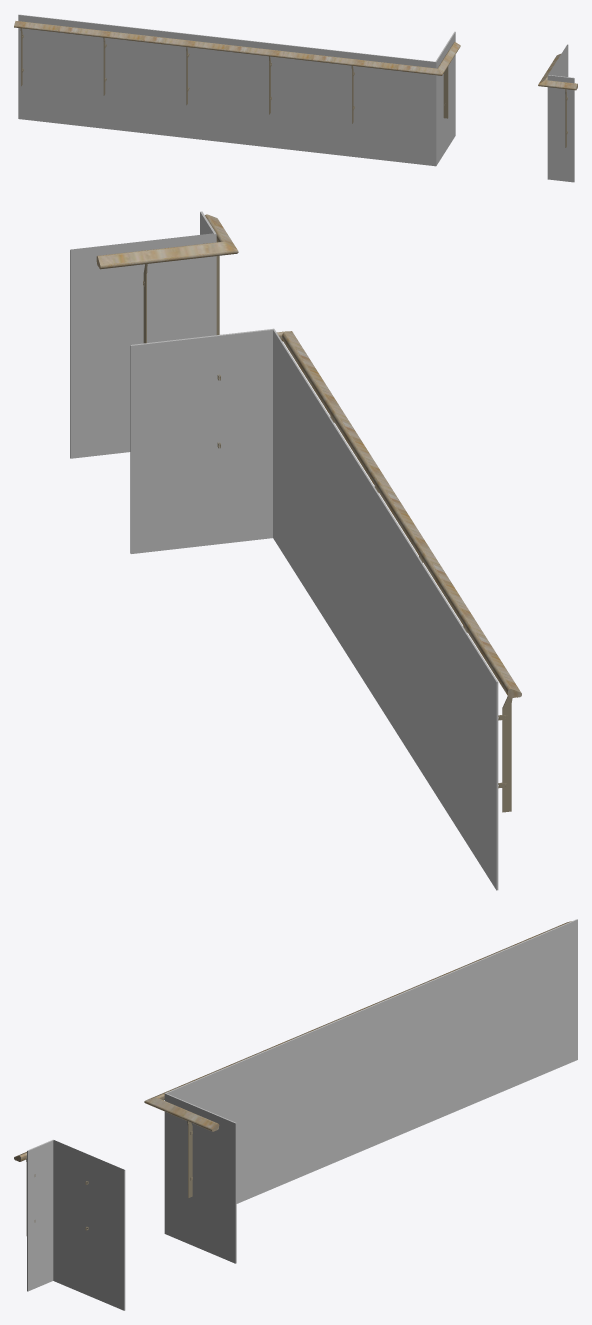
The model's file is 玻璃围栏.fbx.
The picture shows the model from 3 angles, top to bottom: view 1: azimuth 30°, elevation 25°; view 2: azimuth 150°, elevation 25°; view 3: azimuth 270°, elevation 25°; orthographic projection. The views are drawn at different scales.
Parts seen in each view (by area): view 1: Group9, Group4, Group14, Group5, Group3; view 2: Group9, Group14, Group4, Group5, Group11; view 3: Group9, Group14, Group4.
Boxes of the visible parts, <box> form: Group9: <box>18,14,455,166</box>; Group4: <box>14,21,460,75</box>; Group14: <box>547,44,574,182</box>; Group5: <box>538,54,577,90</box>; Group3: <box>443,66,448,118</box>; Group9: <box>130,328,498,890</box>; Group14: <box>70,211,216,458</box>; Group4: <box>277,331,521,698</box>; Group5: <box>96,214,238,269</box>; Group11: <box>498,696,512,812</box>; Group9: <box>164,919,577,1263</box>; Group14: <box>27,1139,125,1310</box>; Group4: <box>144,921,571,1131</box>.
Size of the model in its own units: 7838 by 2000 by 7278.
